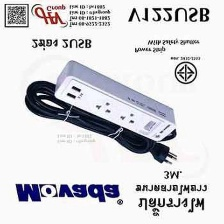three_eye_plug: (45, 56, 181, 146)
